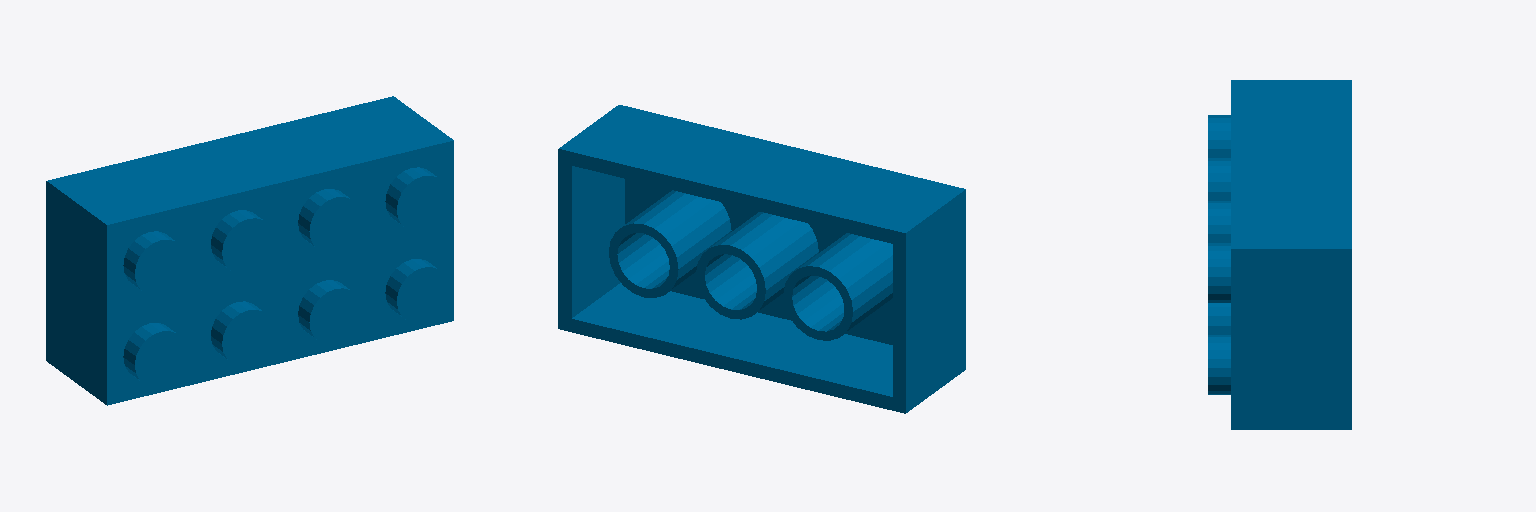
Rendered from tinker.obj.
3 views of the same model, side by side, from view 1: azimuth 30°, elevation 25°; view 2: azimuth 150°, elevation 25°; view 3: azimuth 270°, elevation 25° (orthographic).
Parts seen in each view (by area): view 1: obj_0; view 2: obj_0; view 3: obj_0.
Boxes of the visible parts, x1=… form: obj_0: x1=46, y1=96, x2=453, y2=405; obj_0: x1=558, y1=105, x2=965, y2=413; obj_0: x1=1208, y1=80, x2=1351, y2=429.
Bounding box in the file's own units: 31.8 × 15.97 × 11.4.